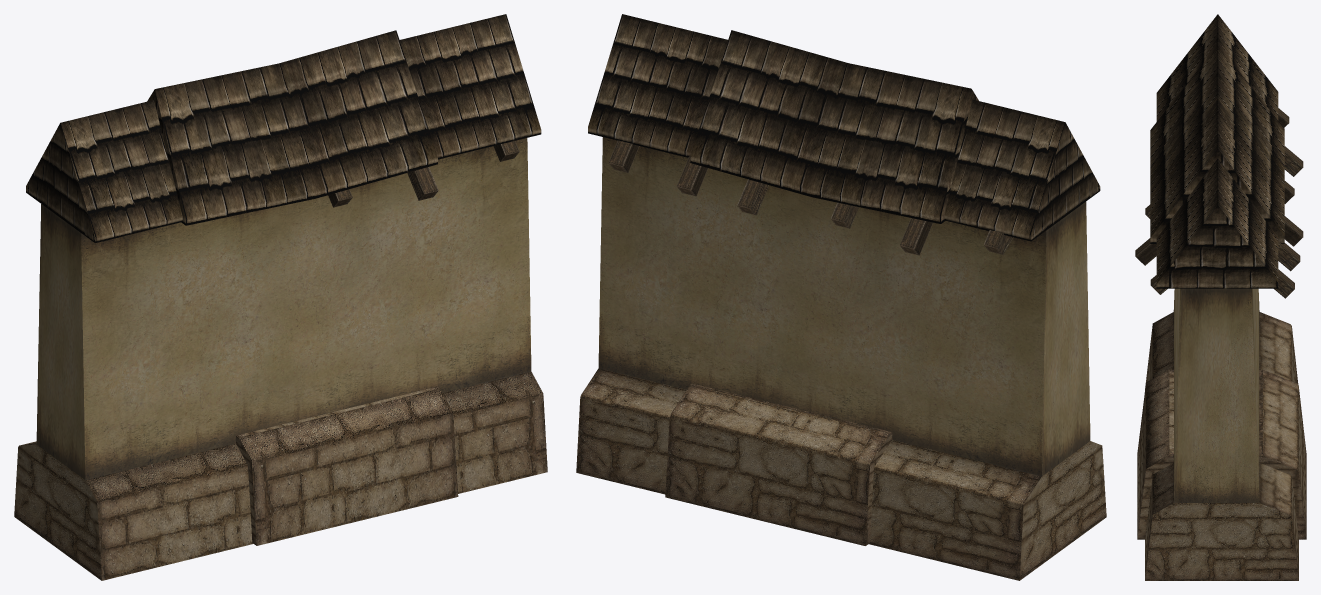
Rendered from Wall_08.fbx.
3 views of the same model, side by side, from view 1: azimuth 30°, elevation 25°; view 2: azimuth 150°, elevation 25°; view 3: azimuth 270°, elevation 25° (orthographic). The views are drawn at different scales.
Parts seen in each view (by area): view 1: Wall_08; view 2: Wall_08; view 3: Wall_08.
Boxes of the visible parts, box(x1,y1,x2,y2) form: Wall_08: box(14, 14, 547, 580); Wall_08: box(576, 14, 1106, 580); Wall_08: box(1135, 14, 1306, 580).
Size of the model in its own units: 8.43 by 7.92 by 3.19.
